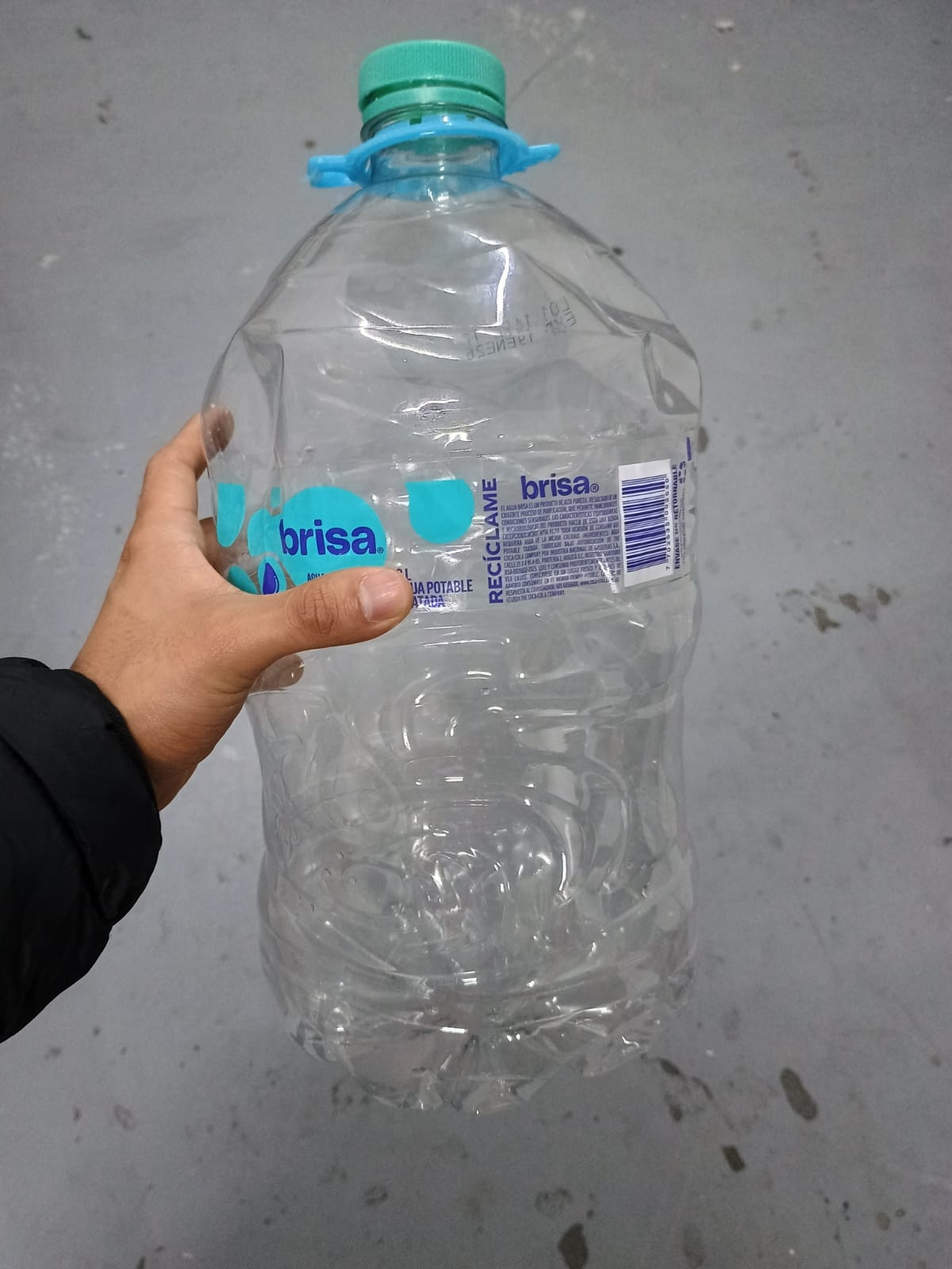Plastico: (205, 39, 705, 1115)
